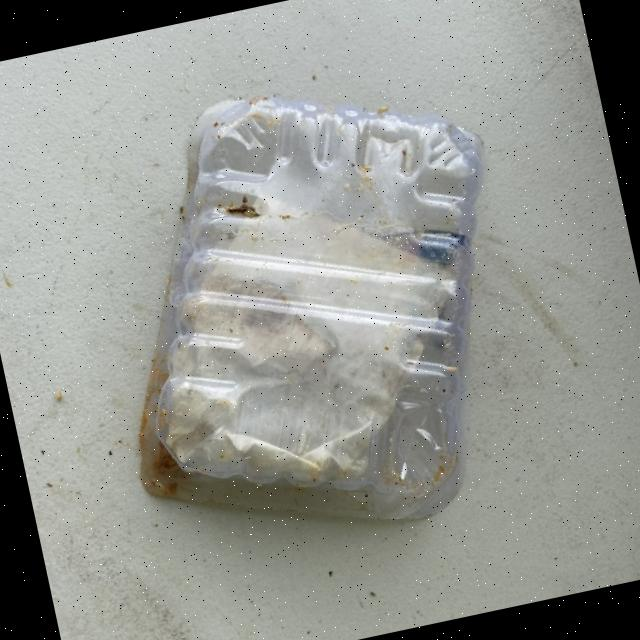plastic: (68, 48, 555, 574)
